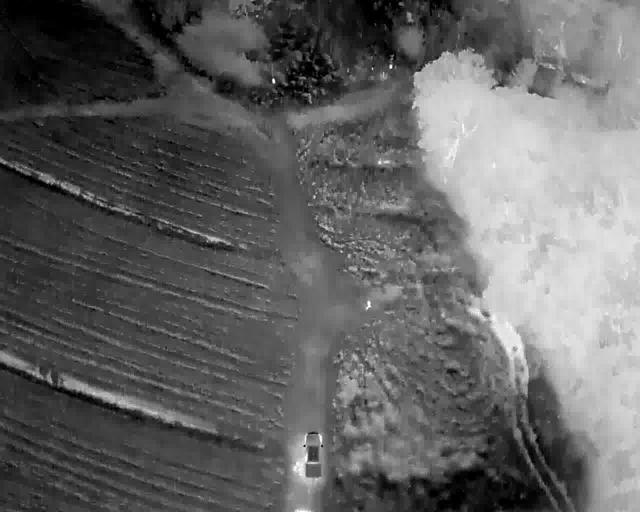car: (304, 298, 323, 342), (293, 367, 310, 405)
person: (352, 191, 358, 203), (294, 327, 298, 336)
